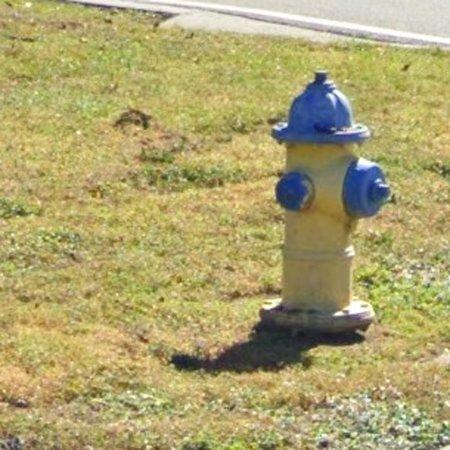a fire hydrant: (261, 71, 391, 334)
